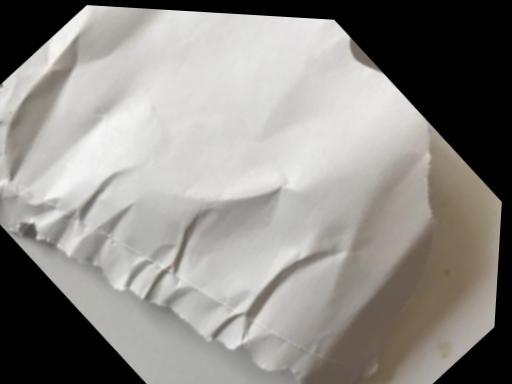paper: (0, 7, 500, 383)
